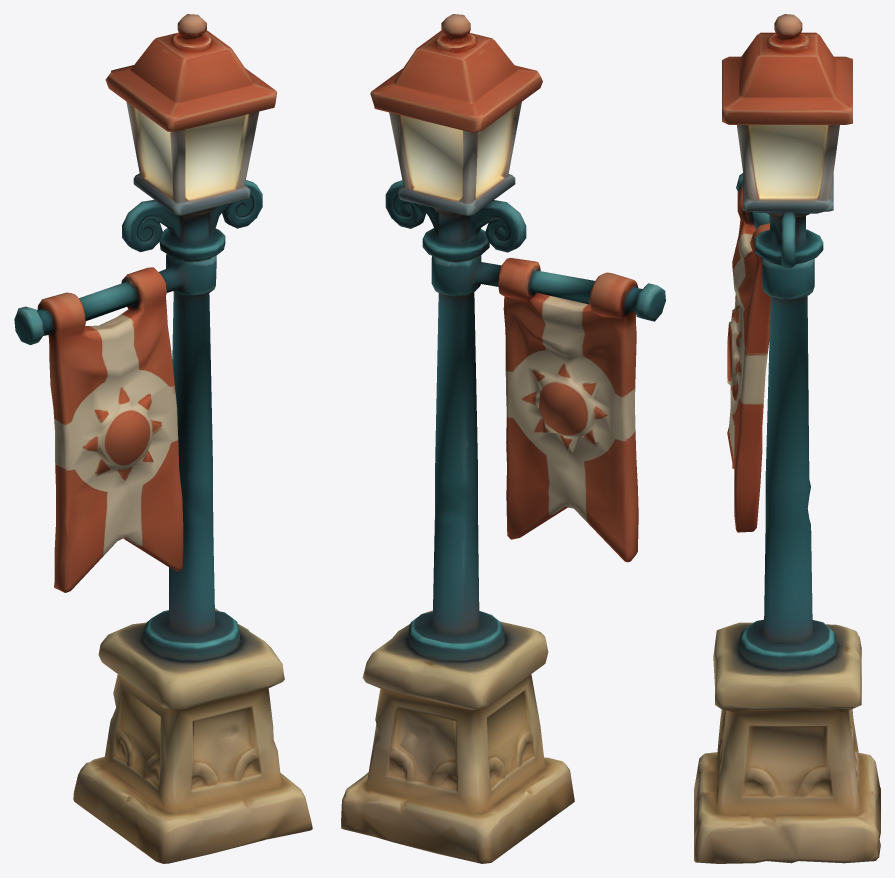
The model's file is lamp_banner.glb.
3 views of the same model, side by side, from view 1: azimuth 30°, elevation 25°; view 2: azimuth 150°, elevation 25°; view 3: azimuth 270°, elevation 25° (orthographic).
Parts seen in each view (by area): view 1: lamp_banner; view 2: lamp_banner; view 3: lamp_banner.
Part boxes in pixels (bbox=[...]): lamp_banner: bbox=[14, 14, 312, 863]; lamp_banner: bbox=[341, 14, 665, 863]; lamp_banner: bbox=[694, 14, 880, 863].
Bounding box in the file's own units: 4.85 × 14 × 2.93.
Materials: 1 (1 with a texture image).
